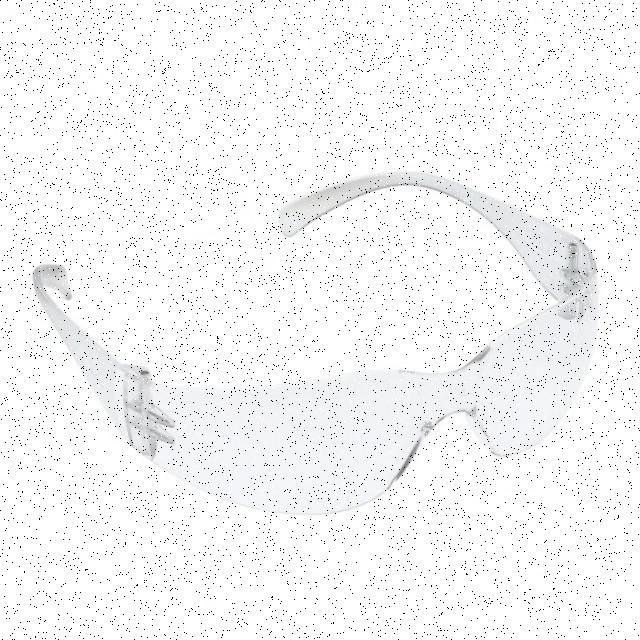Goggles: (1, 162, 640, 522)
